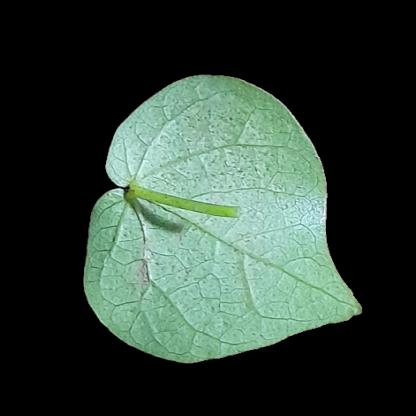healthy: (129, 106, 308, 332)
